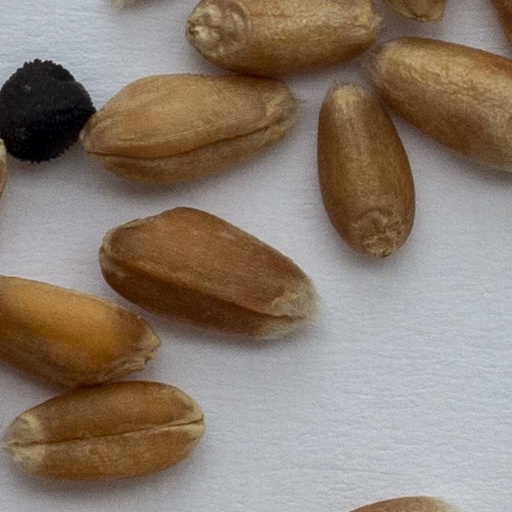Agrostemma-poly: (0, 57, 96, 171)
